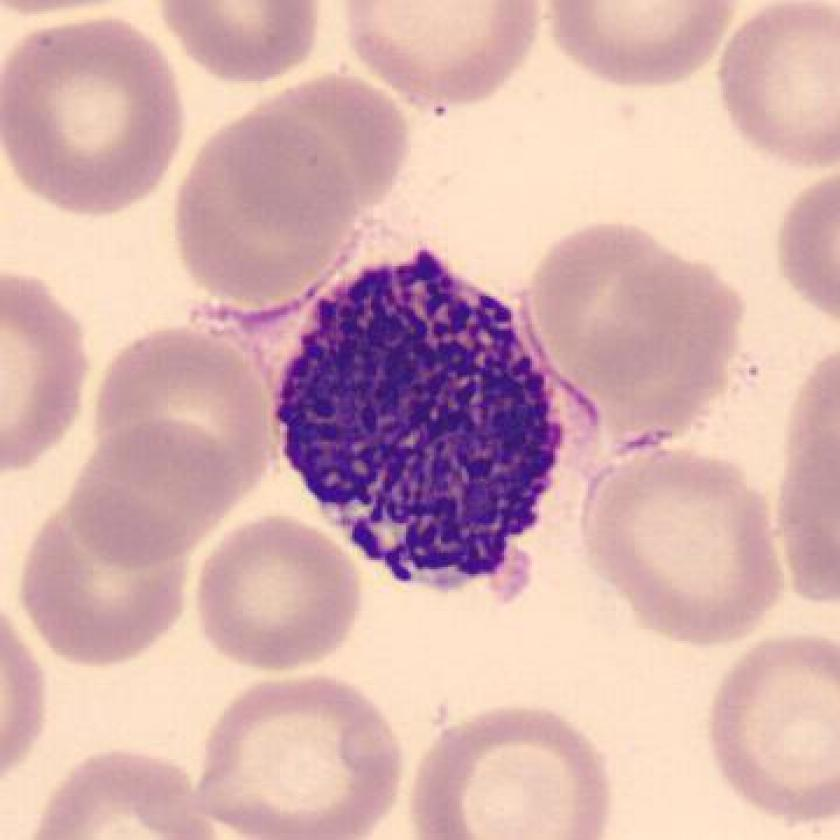basophil: (272, 239, 573, 598)
